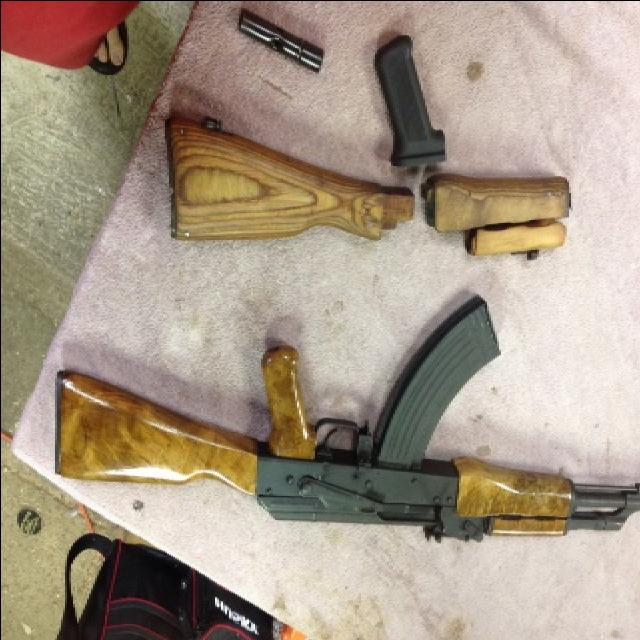rifle: (17, 301, 639, 557)
